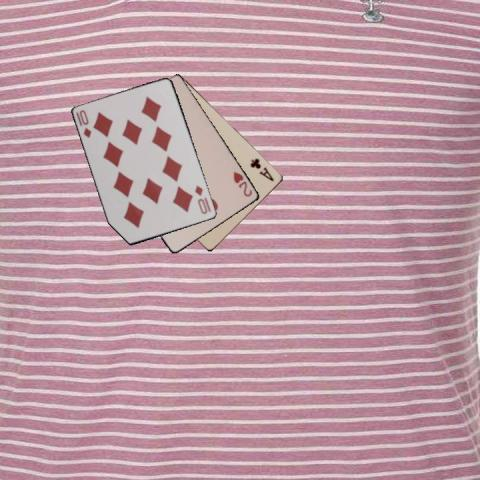10d: (73, 107, 93, 139), (192, 183, 209, 215)
2h: (231, 169, 254, 198)
Ac: (248, 155, 276, 183)
